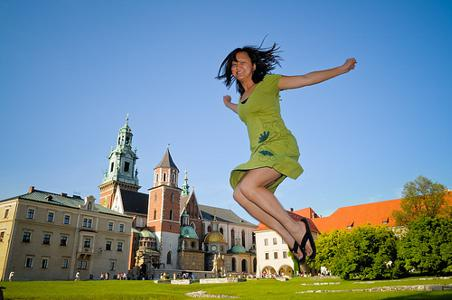person: (218, 44, 361, 262)
